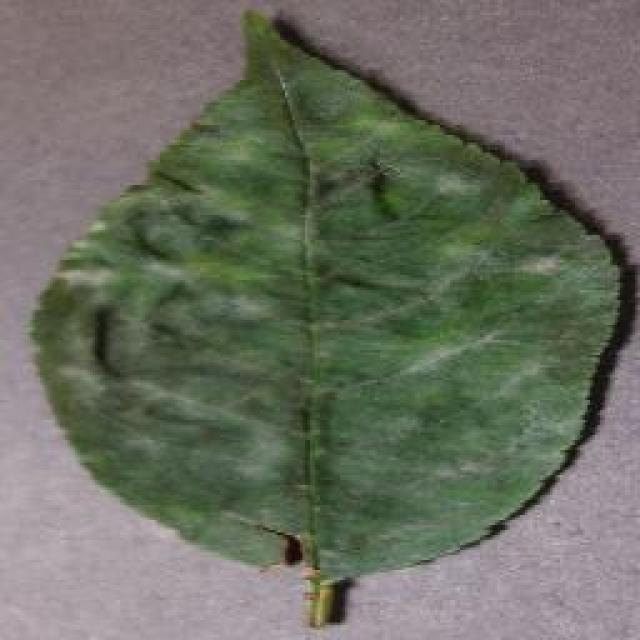Cherry___Powdery_mildew: (46, 66, 575, 504)
